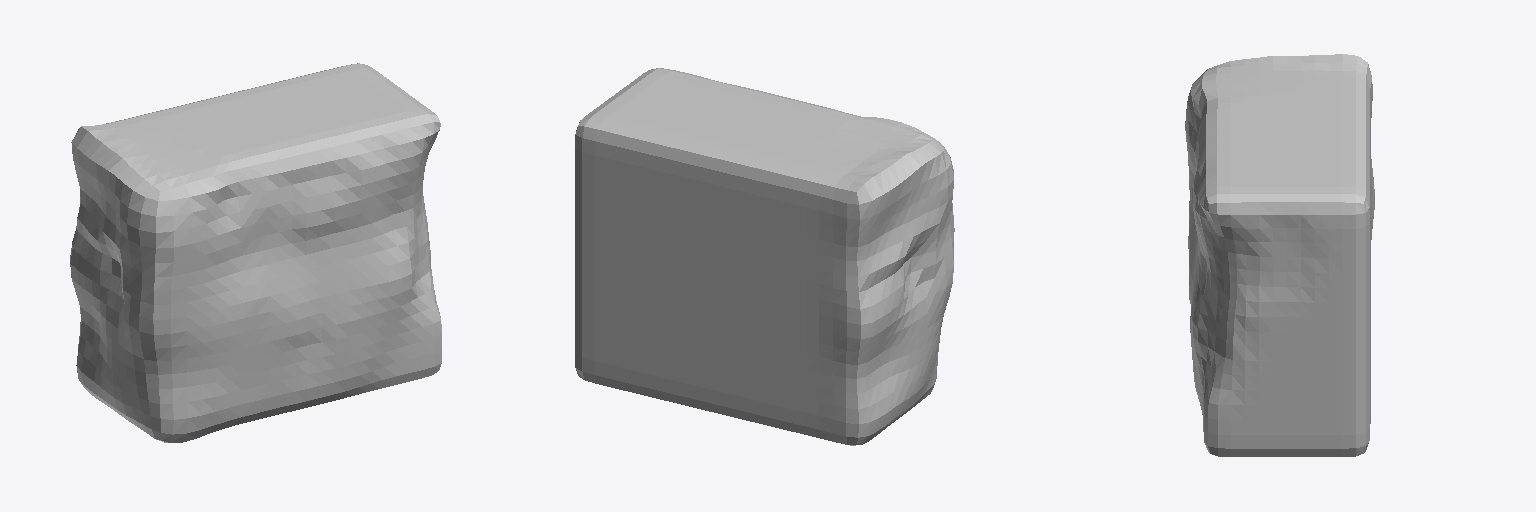
File: PM3D_rock001_007.OBJ
The picture shows the model from 3 angles: view 1: azimuth 30°, elevation 25°; view 2: azimuth 150°, elevation 25°; view 3: azimuth 270°, elevation 25°; orthographic projection.
Parts seen in each view (by area): view 1: Group38907; view 2: Group38907; view 3: Group38907.
Boxes of the visible parts, x1,y1,x2,y2 form: Group38907: [70, 63, 441, 442]; Group38907: [575, 68, 954, 445]; Group38907: [1185, 54, 1374, 456].
Size of the model in its own units: 5345 by 4474 by 2838.